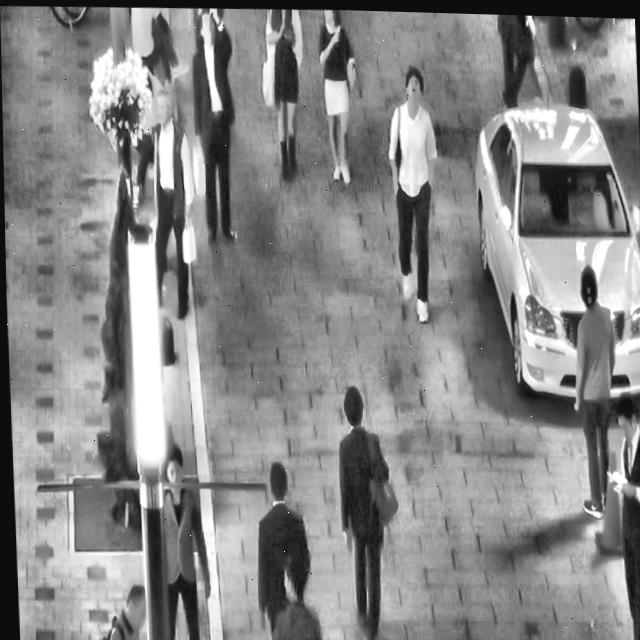light_vehicle: (464, 79, 640, 409)
